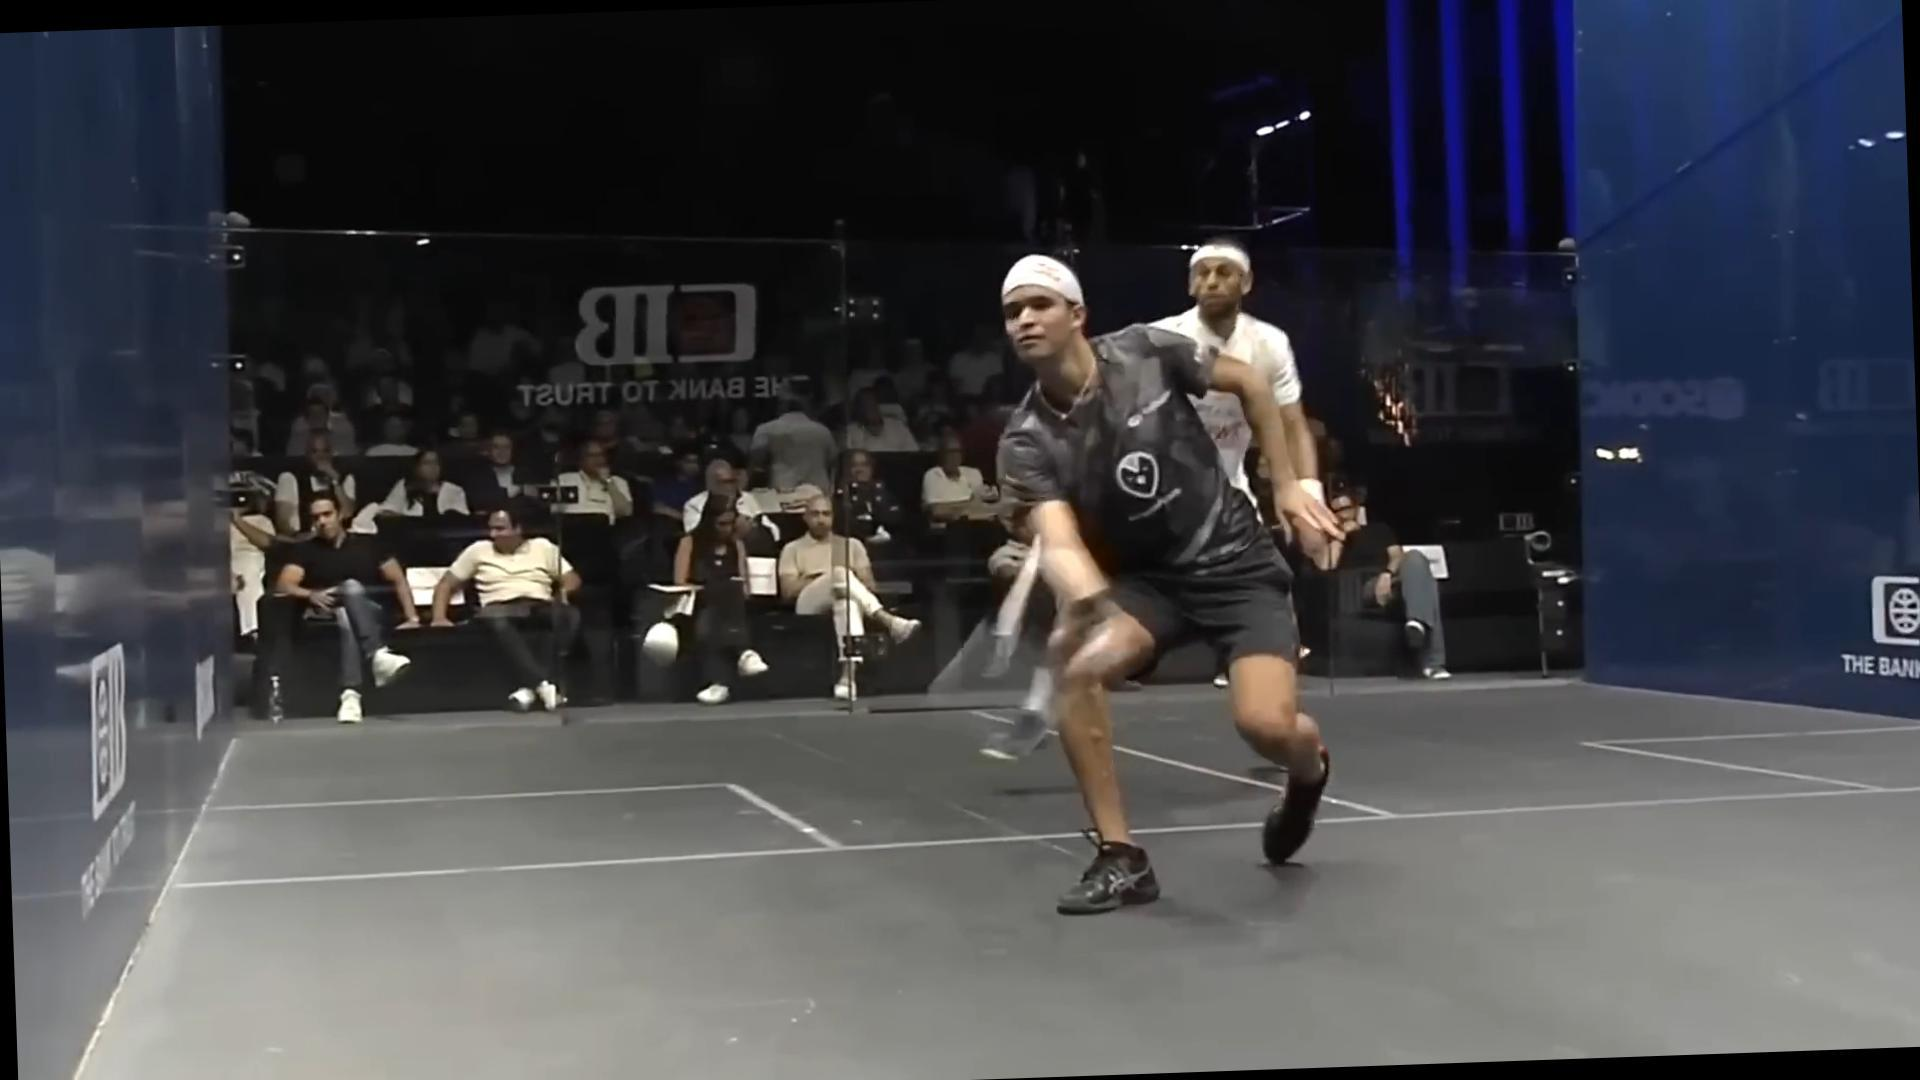Squash-Ball: (624, 612, 705, 680)
